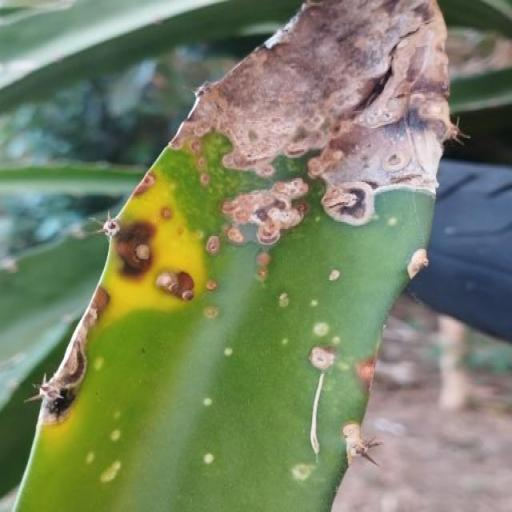stemcanker: (155, 415, 180, 447), (230, 221, 250, 260), (164, 272, 188, 294), (284, 224, 301, 252), (160, 214, 178, 237), (375, 379, 388, 410), (333, 211, 352, 232), (253, 436, 268, 460), (345, 448, 362, 469), (207, 258, 223, 280), (273, 294, 289, 315), (114, 142, 130, 160), (278, 269, 295, 285), (304, 166, 319, 184), (262, 384, 278, 400), (177, 250, 190, 267), (252, 329, 266, 344), (190, 165, 200, 184), (149, 280, 161, 294), (200, 300, 210, 314)
